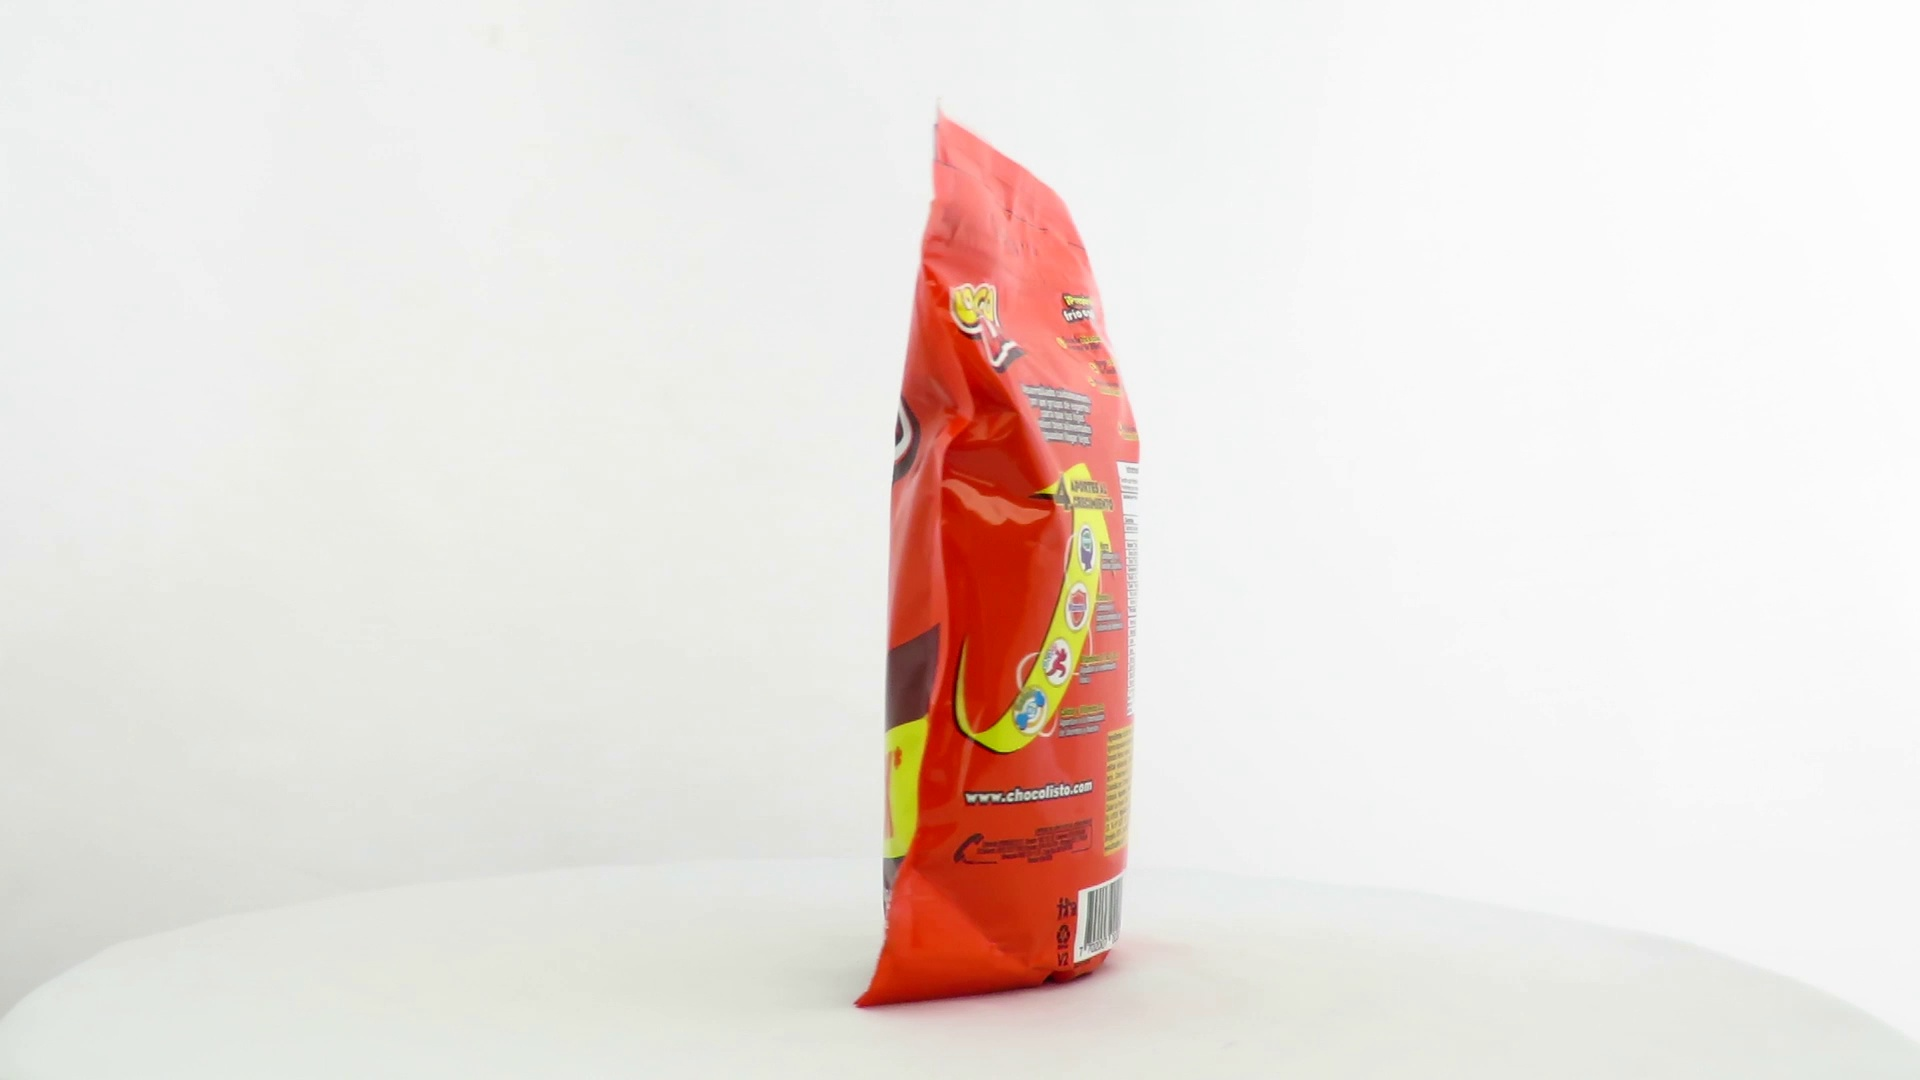COL0170103DYP40000: (848, 98, 1146, 1017)
